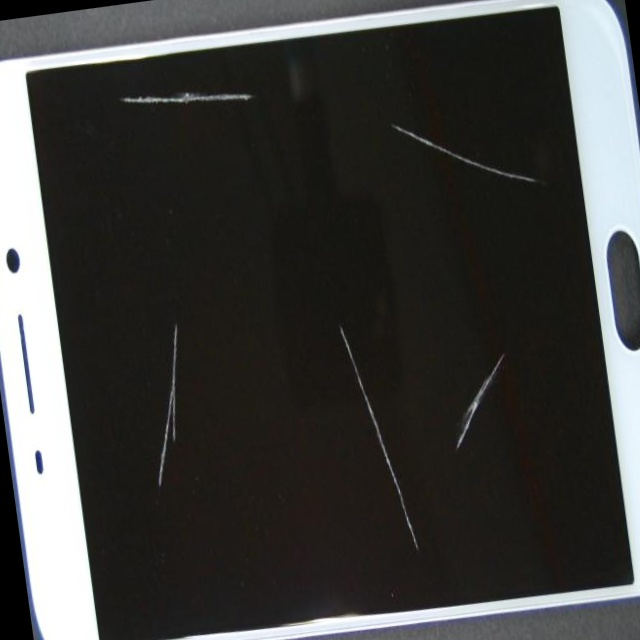scratch: (89, 0, 556, 618)
